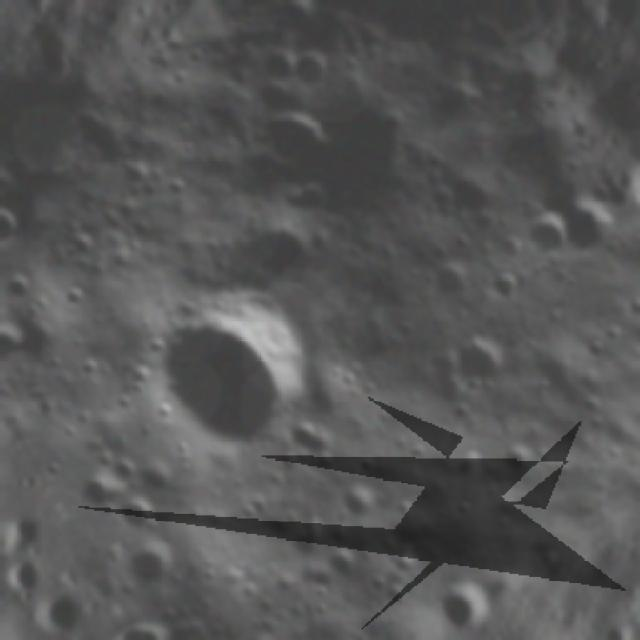crater: (114, 255, 343, 482), (244, 54, 447, 245), (432, 325, 518, 413), (546, 181, 626, 264), (110, 526, 195, 603), (322, 472, 392, 536), (510, 202, 575, 269), (415, 248, 483, 310), (420, 74, 486, 137), (104, 485, 168, 547), (488, 431, 548, 484), (67, 463, 122, 520), (283, 40, 340, 94), (246, 72, 300, 126), (0, 309, 38, 384), (478, 261, 532, 313), (99, 447, 150, 496), (123, 603, 189, 640), (0, 189, 34, 260), (427, 577, 481, 620), (0, 264, 40, 314), (56, 278, 90, 314), (28, 451, 49, 486)
